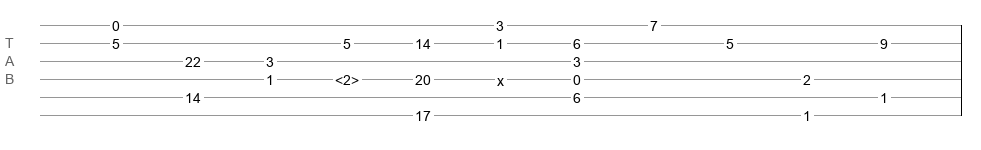0: (112, 18, 120, 28), (573, 72, 581, 82)
1: (266, 72, 274, 82), (496, 36, 504, 46), (803, 108, 811, 118), (880, 90, 888, 100)
14: (185, 90, 201, 100), (415, 36, 431, 46)
17: (415, 108, 431, 118)
2: (803, 72, 811, 82)
20: (415, 72, 431, 82)
22: (185, 54, 201, 64)
3: (266, 54, 274, 64), (496, 18, 504, 28), (573, 54, 581, 64)
5: (112, 36, 120, 46), (343, 36, 351, 46), (726, 36, 734, 46)
6: (573, 36, 581, 46), (573, 90, 581, 100)
7: (650, 18, 658, 28)
9: (880, 36, 888, 46)
harmonic: (335, 72, 359, 82)
x: (497, 73, 504, 81)
